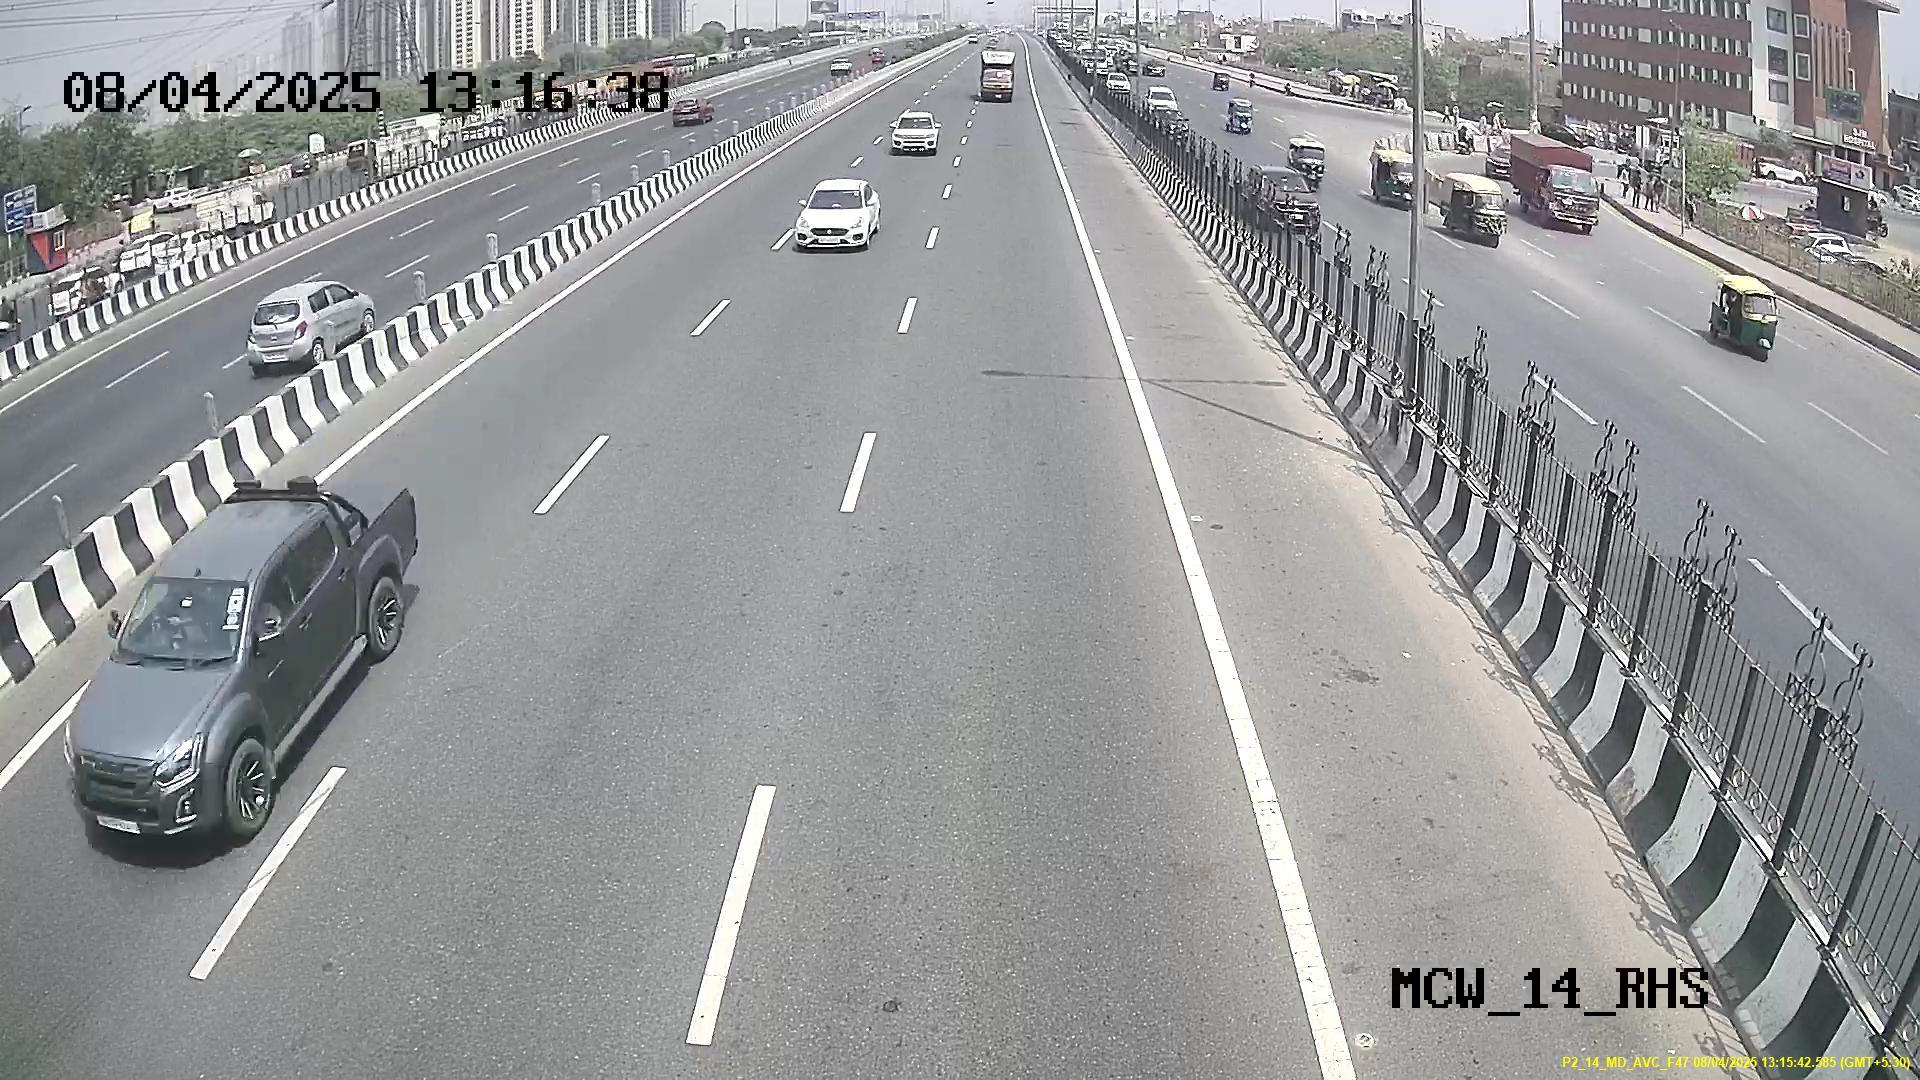car: (63, 550, 298, 845), (793, 175, 881, 262)
